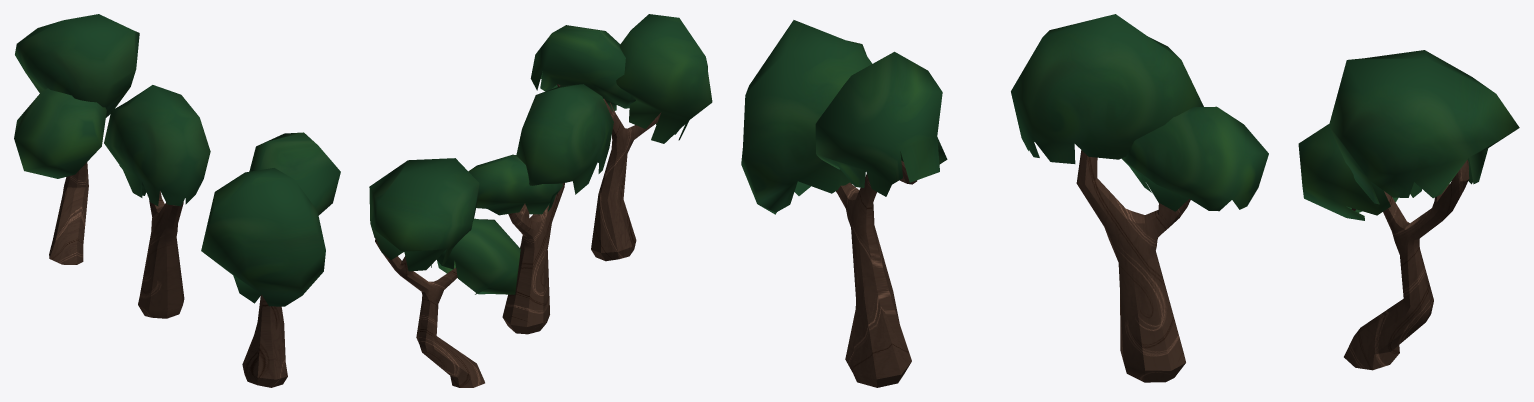
The model's file is Trees.glb.
3 renders of one model, left to right at view 1: azimuth 30°, elevation 25°; view 2: azimuth 150°, elevation 25°; view 3: azimuth 270°, elevation 25°, orthographic. The views are drawn at different scales.
Visible parts, largest first — view 1: Cube.001, Cube.002, Cube; view 2: Cube.001, Cube.002, Cube; view 3: Cube, Cube.001, Cube.002.
Part boxes in pixels (x1=…): Cube.001: x1=201, y1=132, x2=340, y2=387; Cube.002: x1=14, y1=14, x2=139, y2=264; Cube: x1=104, y1=85, x2=210, y2=318; Cube.001: x1=530, y1=14, x2=712, y2=261; Cube.002: x1=369, y1=158, x2=520, y2=387; Cube: x1=468, y1=84, x2=613, y2=334; Cube: x1=1011, y1=14, x2=1268, y2=382; Cube.001: x1=741, y1=20, x2=947, y2=387; Cube.002: x1=1298, y1=50, x2=1519, y2=370.
Size of the model in its own units: 2.25 by 3.34 by 6.81.
Materials: 1 (1 with a texture image).
